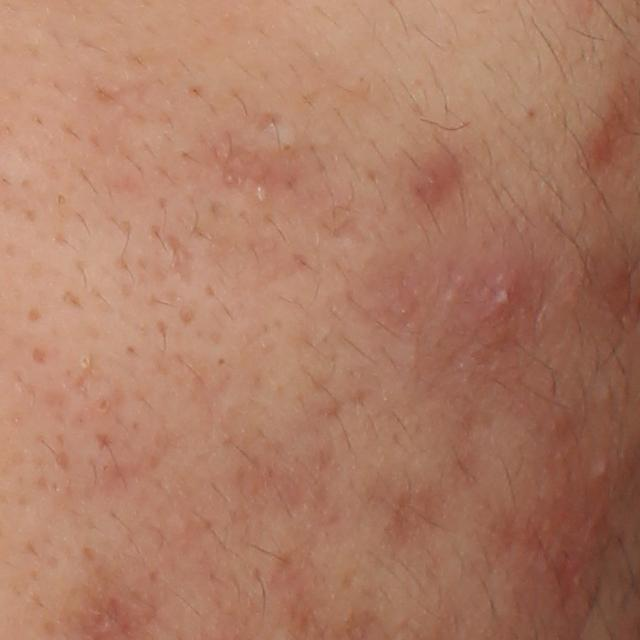atrophic_scar: (202, 136, 319, 209), (163, 233, 198, 290), (255, 109, 283, 134)
comedo: (591, 450, 617, 476)
